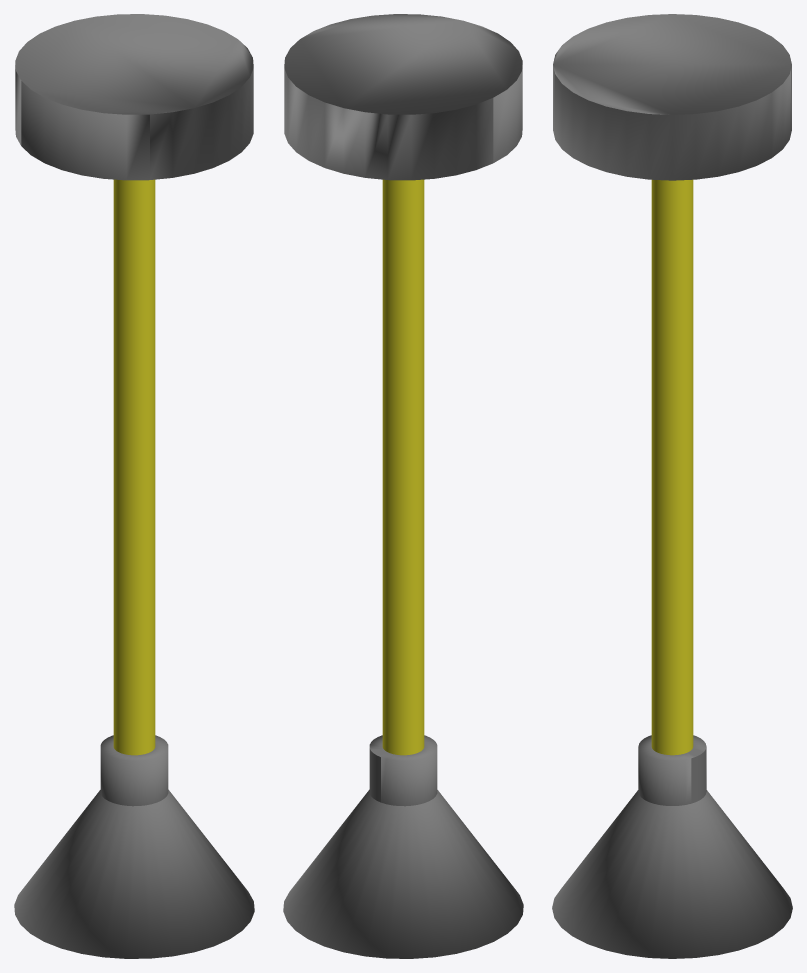
The model's file is Lampara.glb.
The picture shows the model from 3 angles, left to right: view 1: azimuth 30°, elevation 25°; view 2: azimuth 150°, elevation 25°; view 3: azimuth 270°, elevation 25°; orthographic projection.
Visible parts, largest first — view 1: Circle.001, Circle.004, Circle.002, Circle, Circle.003; view 2: Circle.004, Circle.001, Circle.002, Circle.003, Circle; view 3: Circle.004, Circle.001, Circle.002, Circle.003, Circle.
Boxes of the visible parts, <box> form: Circle.001: <box>14,789,254,958</box>; Circle.004: <box>15,14,253,179</box>; Circle.002: <box>113,179,155,755</box>; Circle: <box>21,81,149,180</box>; Circle.003: <box>100,735,168,806</box>; Circle.004: <box>284,14,522,180</box>; Circle.001: <box>283,789,523,958</box>; Circle.002: <box>382,179,424,755</box>; Circle.003: <box>369,735,437,806</box>; Circle: <box>369,65,522,802</box>; Circle.004: <box>553,14,791,180</box>; Circle.001: <box>552,790,792,958</box>; Circle.002: <box>651,179,693,755</box>; Circle.003: <box>638,735,706,805</box>; Circle: <box>691,749,705,803</box>.
Size of the model in its own units: 0.5734 by 2.22 by 0.5734.
